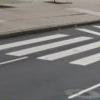Crosswalk: (6, 30, 100, 74)
